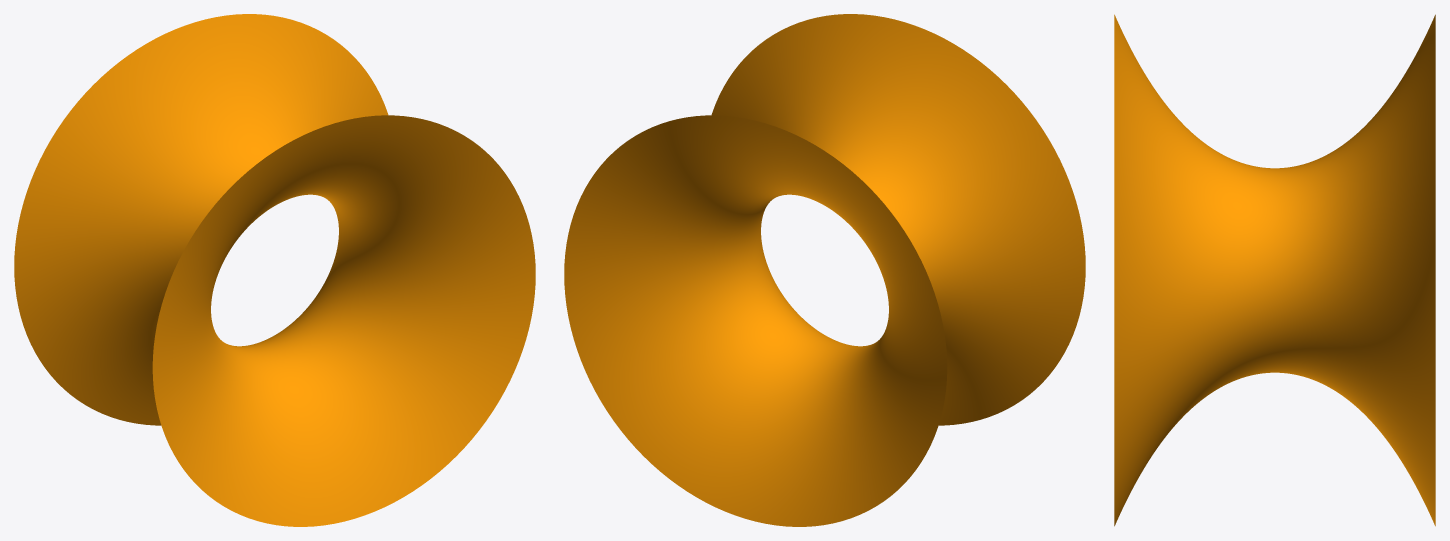
Rendered from catenoid.glb.
3 renders of one model, left to right at view 1: azimuth 30°, elevation 25°; view 2: azimuth 150°, elevation 25°; view 3: azimuth 270°, elevation 25°, orthographic. The views are drawn at different scales.
Parts seen in each view (by area): view 1: Object_2; view 2: Object_2; view 3: Object_2.
Boxes of the visible parts, bbox=[...] form: Object_2: bbox=[14, 14, 535, 526]; Object_2: bbox=[564, 14, 1085, 526]; Object_2: bbox=[1114, 14, 1435, 526].
Size of the model in its own units: 0.3281 by 0.3281 by 0.2054.
